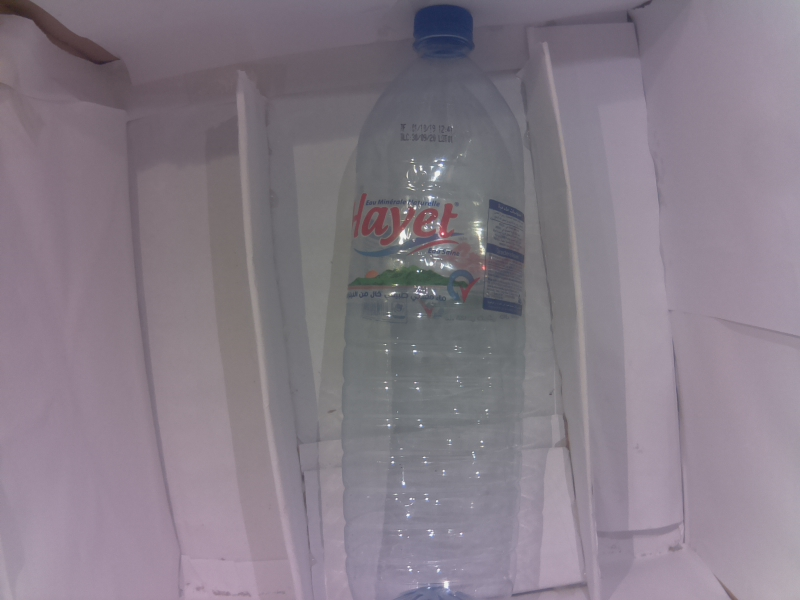botolplastik: (345, 5, 523, 600)
